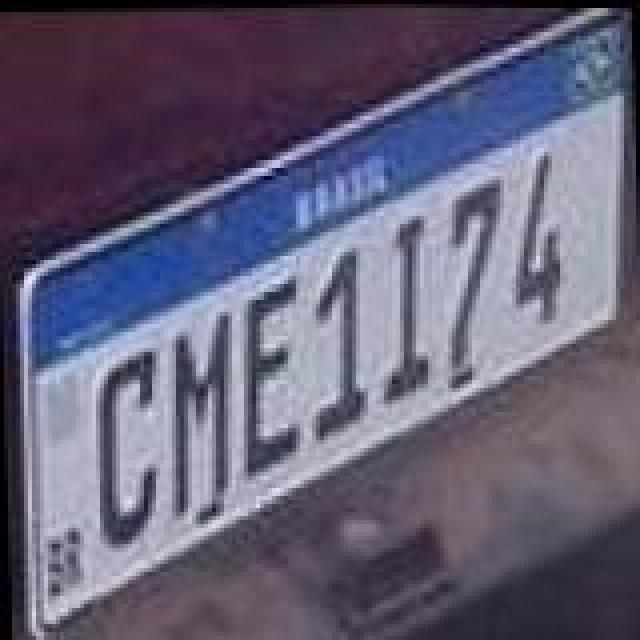1: (302, 246, 370, 442)
4: (504, 148, 560, 320)
7: (438, 174, 510, 370)
C: (84, 346, 164, 550)
E: (234, 270, 306, 478)
I: (378, 206, 438, 402)
M: (160, 306, 240, 522)
